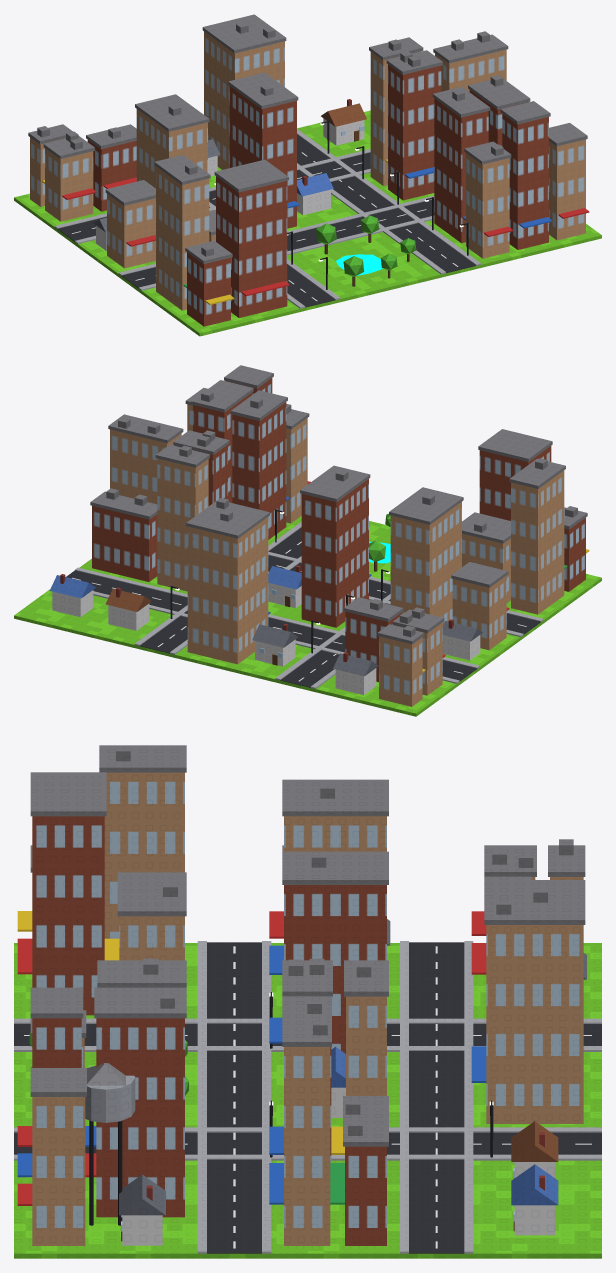
Rendered from Ville_03.glb.
The picture shows the model from 3 angles, top to bottom: view 1: azimuth 30°, elevation 25°; view 2: azimuth 150°, elevation 25°; view 3: azimuth 270°, elevation 25°; orthographic projection. The views are drawn at different scales.
Parts seen in each view (by area): view 1: Ville_03; view 2: Ville_03; view 3: Ville_03.
Boxes of the visible parts, box(x1,y1,x2,y2) form: Ville_03: box(14, 14, 601, 336); Ville_03: box(14, 365, 601, 716); Ville_03: box(14, 745, 601, 1258).
Size of the model in its own units: 40 by 13.2 by 32.
24 materials, 13 textured.
